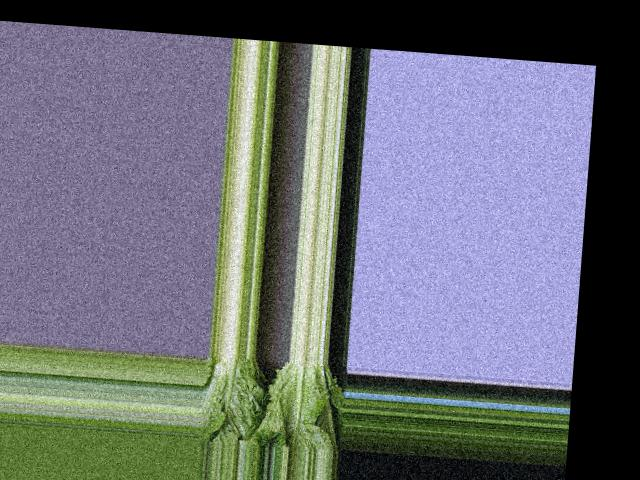lettuce: (203, 354, 265, 440)
